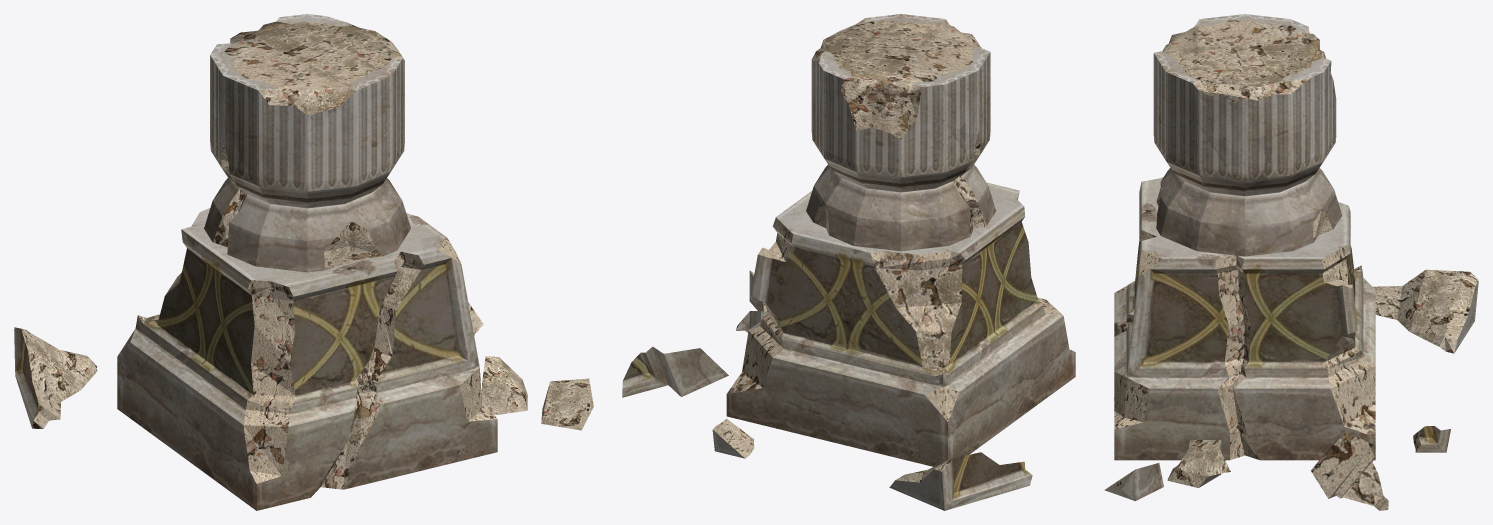
The model's file is bg_atm_runapass_churchpillar03_sm_lkj.FBX.
3 views of the same model, side by side, from view 1: azimuth 30°, elevation 25°; view 2: azimuth 150°, elevation 25°; view 3: azimuth 270°, elevation 25° (orthographic). The views are drawn at different scales.
Visible parts, largest first — view 1: bg_atm_runapass_churchpillar03_sm_lkj; view 2: bg_atm_runapass_churchpillar03_sm_lkj; view 3: bg_atm_runapass_churchpillar03_sm_lkj.
Part boxes in pixels (box(x1,y1,x2,y2)): bg_atm_runapass_churchpillar03_sm_lkj: box(14, 14, 593, 510); bg_atm_runapass_churchpillar03_sm_lkj: box(622, 14, 1075, 510); bg_atm_runapass_churchpillar03_sm_lkj: box(1104, 14, 1478, 510).
Size of the model in its own units: 213 by 175 by 166.
